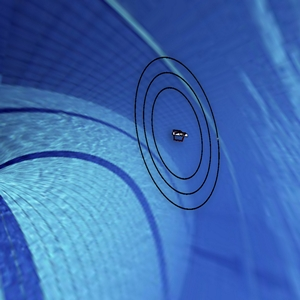circle: (118, 42, 231, 221)
submarine: (167, 120, 191, 150)
